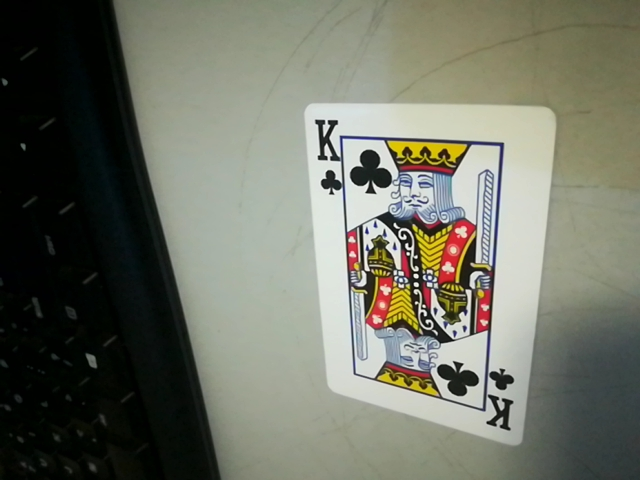mh k: (306, 113, 348, 197)
